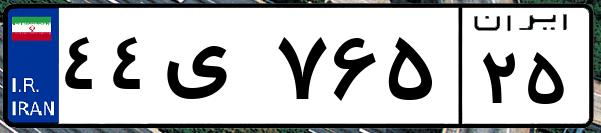2: (475, 38, 525, 113)
4: (57, 26, 110, 100), (110, 28, 158, 98)
5: (385, 28, 445, 110), (525, 38, 570, 115)
6: (330, 28, 385, 110)
7: (270, 28, 330, 110)
ی: (158, 20, 270, 120)
